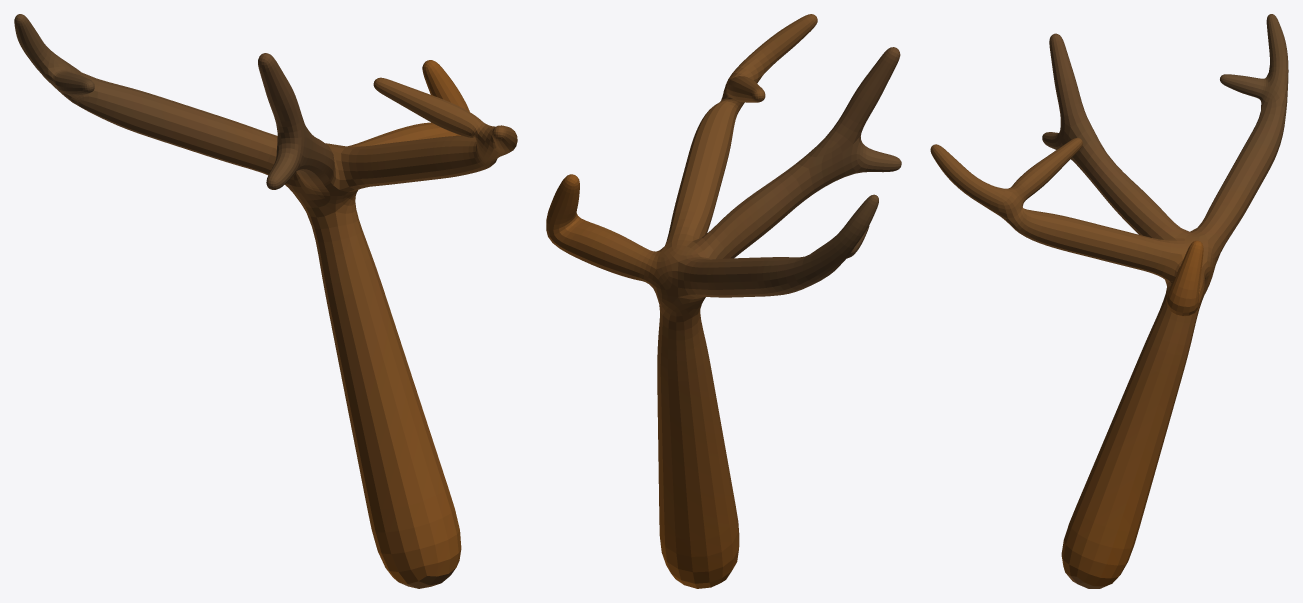
File: SM_Env_Tree_01.fbx
3 renders of one model, left to right at view 1: azimuth 30°, elevation 25°; view 2: azimuth 150°, elevation 25°; view 3: azimuth 270°, elevation 25°, orthographic. The views are drawn at different scales.
Parts seen in each view (by area): view 1: SM_Env_Tree_01; view 2: SM_Env_Tree_01; view 3: SM_Env_Tree_01.
Part boxes in pixels (x1,y1,x2,y2): SM_Env_Tree_01: (14,14,517,588); SM_Env_Tree_01: (546,14,901,588); SM_Env_Tree_01: (930,14,1288,588).
Bounding box in the file's own units: 554 × 781 × 527.
